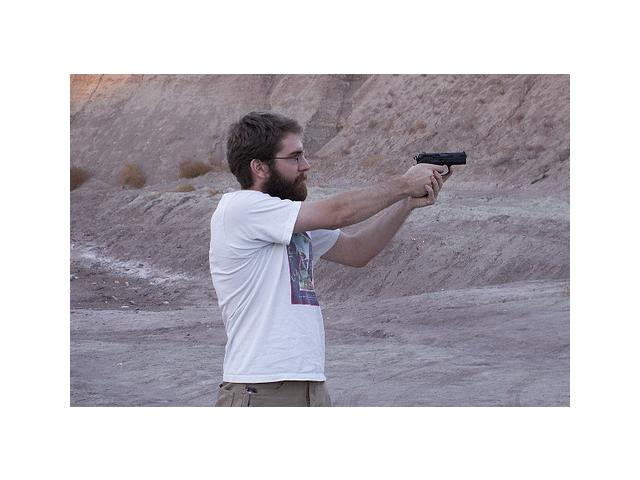pistol: (412, 149, 467, 207)
